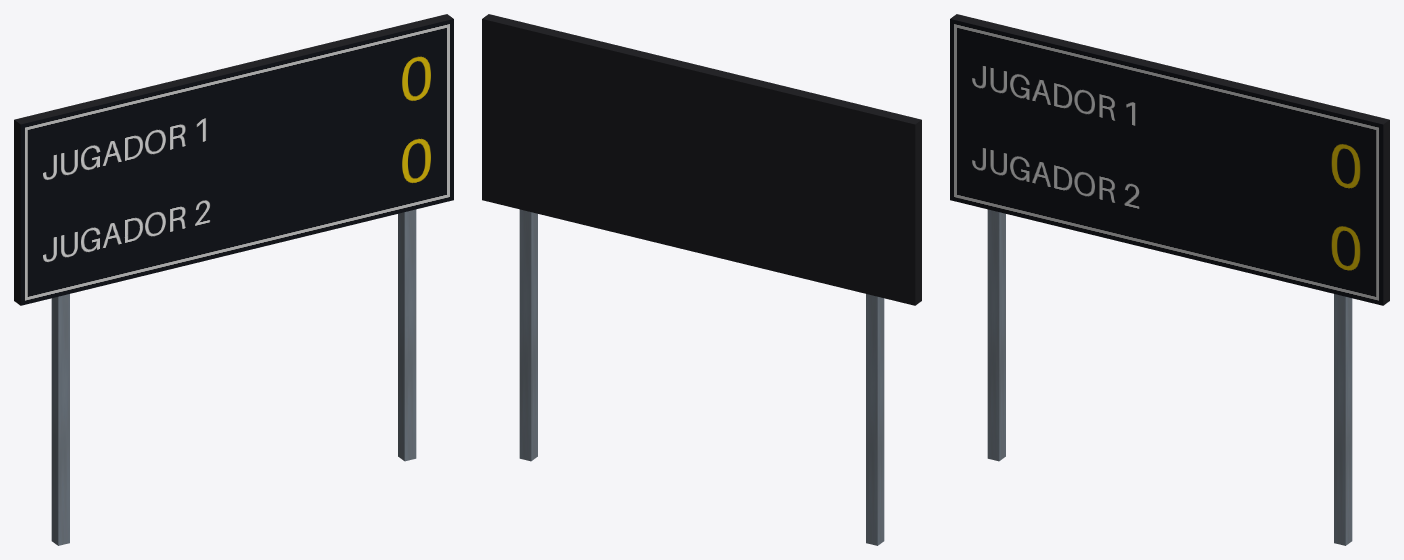
The model's file is marcador_0.obj.
The picture shows the model from 3 angles, left to right: view 1: azimuth 30°, elevation 25°; view 2: azimuth 150°, elevation 25°; view 3: azimuth 330°, elevation 25°; orthographic projection.
Size of the model in its own units: 6 by 5.7 by 0.16.
Materials: 3 (3 with a texture image).
